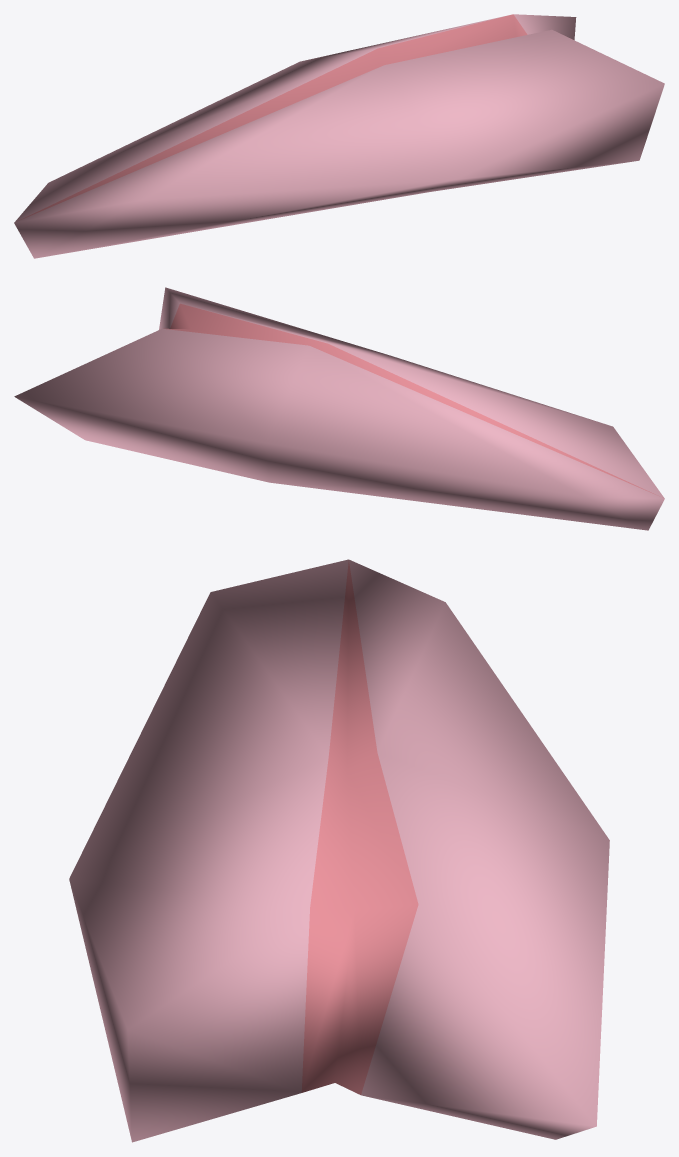
File: fillet.glb
The picture shows the model from 3 angles, top to bottom: view 1: azimuth 30°, elevation 25°; view 2: azimuth 150°, elevation 25°; view 3: azimuth 270°, elevation 25°; orthographic projection. The views are drawn at different scales.
Visible parts, largest first — view 1: fillet; view 2: fillet; view 3: fillet.
Part boxes in pixels (<box>): fillet: <box>14,14,664,258</box>; fillet: <box>14,287,664,530</box>; fillet: <box>69,559,609,1142</box>.
Size of the model in its own units: 1.09 by 0.196 by 0.4351.
